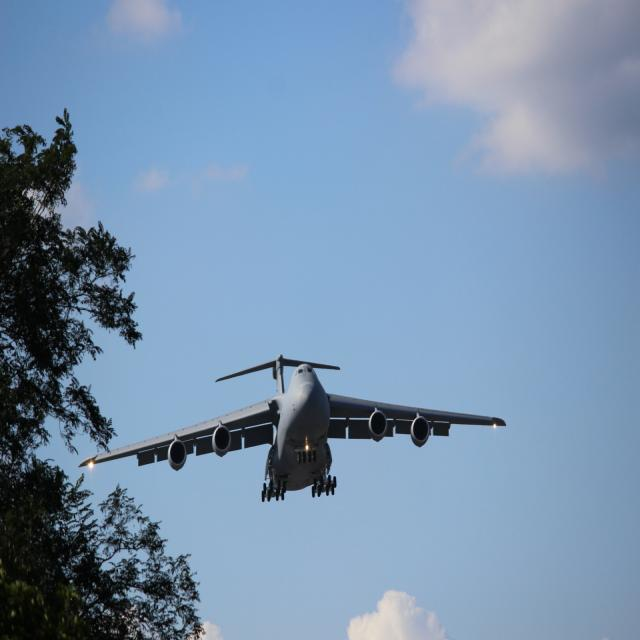MIL_Plane: (77, 349, 507, 499)
